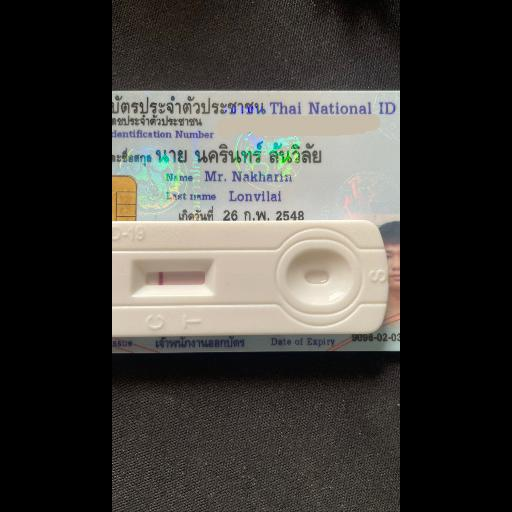Neg: (112, 224, 376, 328)
